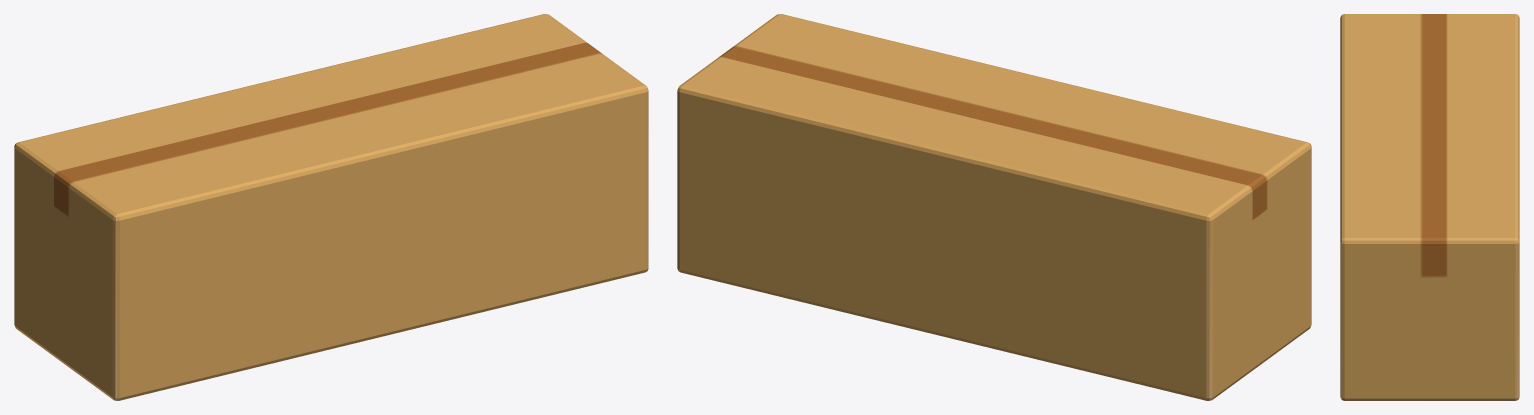
Rendered from X3BoxCardboard.fbx.
The picture shows the model from 3 angles, left to right: view 1: azimuth 30°, elevation 25°; view 2: azimuth 150°, elevation 25°; view 3: azimuth 270°, elevation 25°; orthographic projection. The views are drawn at different scales.
Parts seen in each view (by area): view 1: dan3; view 2: dan3; view 3: dan3.
Part boxes in pixels (x1=…): dan3: x1=14, y1=14, x2=648, y2=400; dan3: x1=677, y1=14, x2=1311, y2=400; dan3: x1=1340, y1=14, x2=1519, y2=400.
Size of the model in its own units: 3 by 1 by 1.
Materials: 1 (1 with a texture image).
